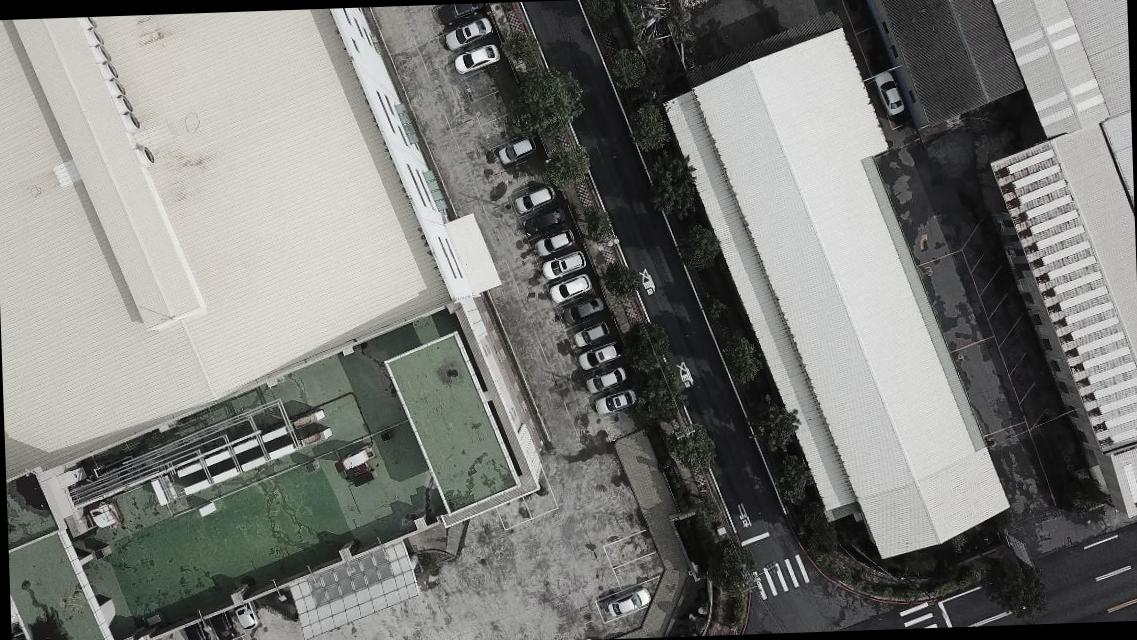vehicle: (442, 14, 494, 48), (451, 40, 500, 75), (564, 293, 607, 329), (874, 69, 903, 117), (522, 205, 563, 238), (608, 588, 650, 620), (532, 227, 576, 257), (542, 248, 586, 278), (514, 184, 555, 216), (436, 2, 486, 28), (550, 274, 592, 304), (586, 365, 628, 394), (577, 343, 619, 372), (496, 136, 536, 164), (594, 391, 636, 415), (572, 322, 609, 348), (208, 612, 237, 639), (236, 600, 256, 632), (184, 621, 209, 639)
